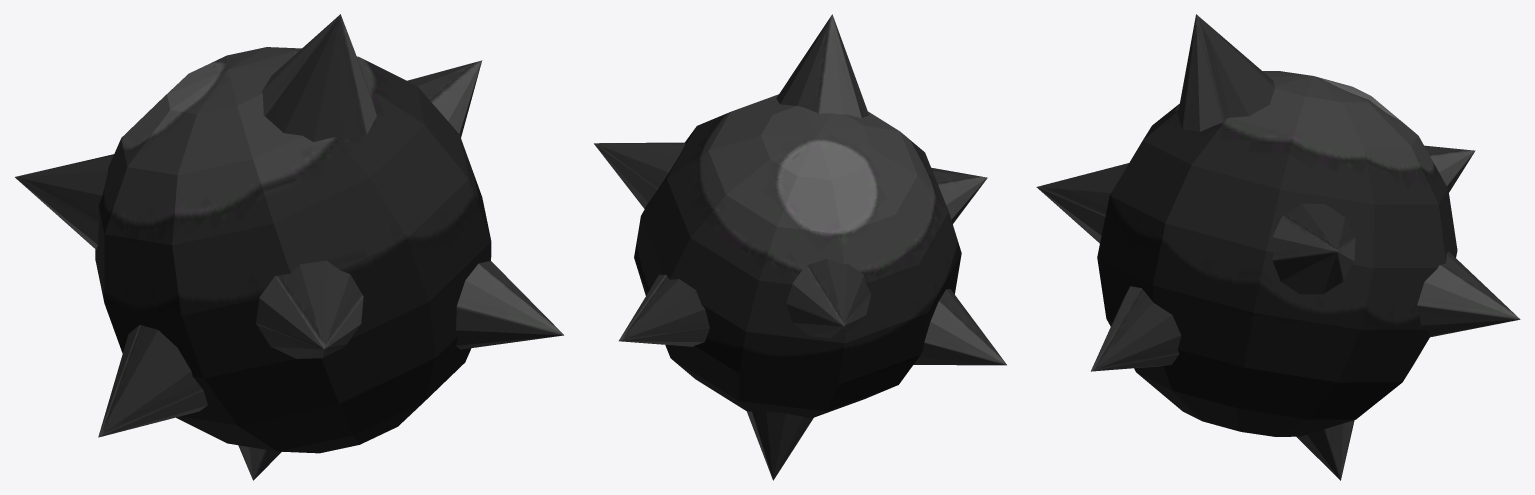
File: SpikeOPultProjectile.fbx
The picture shows the model from 3 angles, left to right: view 1: azimuth 30°, elevation 25°; view 2: azimuth 150°, elevation 25°; view 3: azimuth 270°, elevation 25°; orthographic projection. The views are drawn at different scales.
Parts seen in each view (by area): view 1: SpikeOPultProjectile; view 2: SpikeOPultProjectile; view 3: SpikeOPultProjectile.
Boxes of the visible parts, bbox=[...] form: SpikeOPultProjectile: bbox=[15, 14, 563, 480]; SpikeOPultProjectile: bbox=[594, 14, 1006, 480]; SpikeOPultProjectile: bbox=[1036, 14, 1520, 480].
Bounding box in the file's own units: 12.41 × 13.77 × 12.86.
